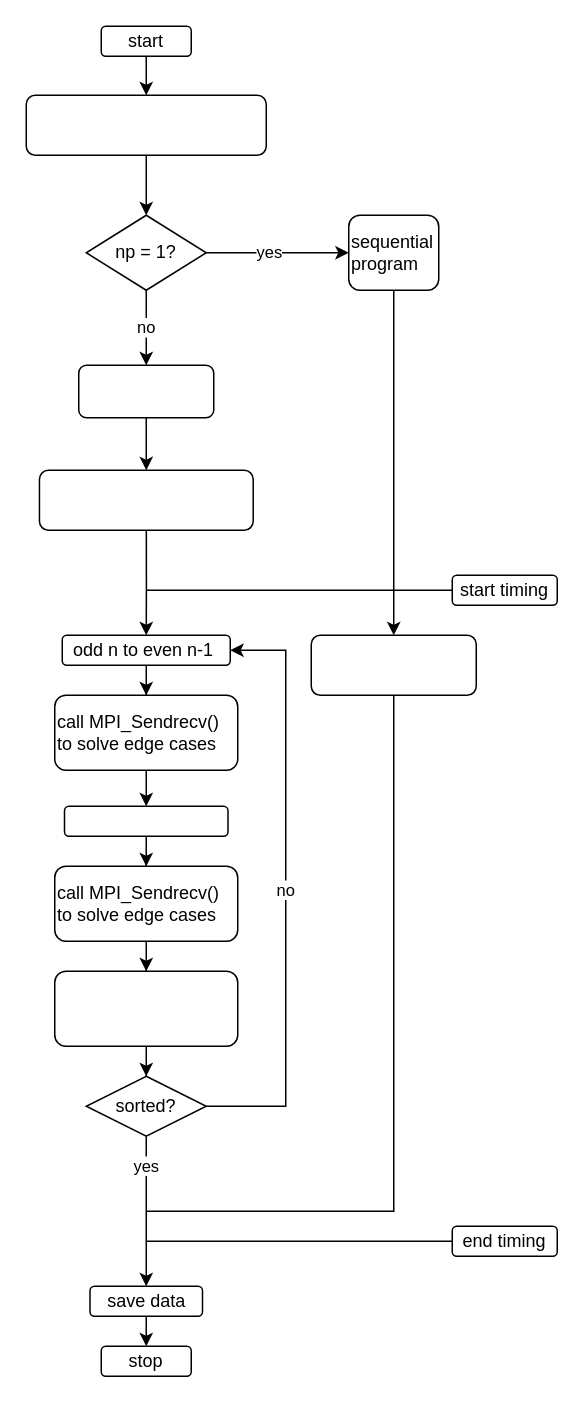
This 584x1403 diagram has some shape labels left out. Each missing label, with the centre of its shape:
"Assign N/np array entries to each thread" belongs at point (145, 499).
"call MPI_Gather() to check sorted flags" belongs at point (145, 1008).
"even n to odd n-1" belongs at point (145, 820).
"Initialization: set array size N, randomly generate the array" belongs at point (145, 124).
"parallel program" belongs at point (145, 391).
"sequential sotring odd_even_sort()" belongs at point (393, 664).
